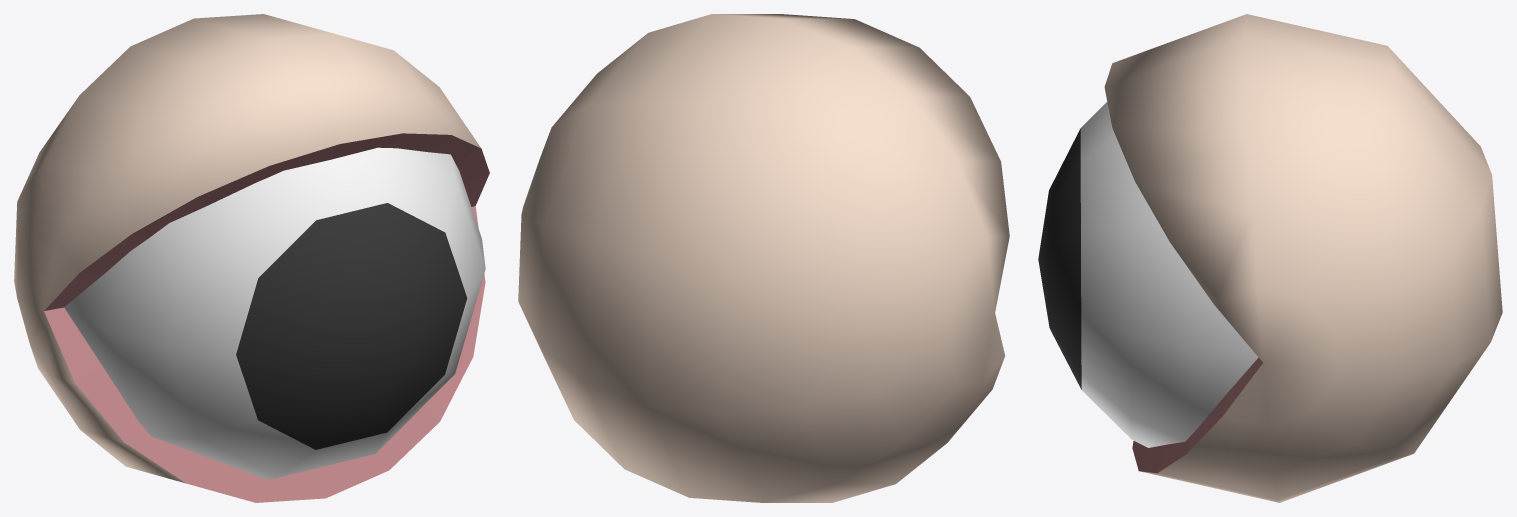
Rendered from eye(1).glb.
3 views of the same model, side by side, from view 1: azimuth 30°, elevation 25°; view 2: azimuth 150°, elevation 25°; view 3: azimuth 270°, elevation 25° (orthographic). The views are drawn at different scales.
Parts seen in each view (by area): view 1: node_id84, node_id79; view 2: node_id79; view 3: node_id79, node_id84.
Part boxes in pixels (left/top/right/bottom): node_id84: left=64, top=147, right=485, bottom=479; node_id79: left=14, top=14, right=489, bottom=502; node_id79: left=518, top=14, right=1009, bottom=502; node_id79: left=1104, top=14, right=1502, bottom=502; node_id84: left=1038, top=102, right=1258, bottom=447.
Bounding box in the file's own units: 0.0798 × 0.0796 × 0.0751.
